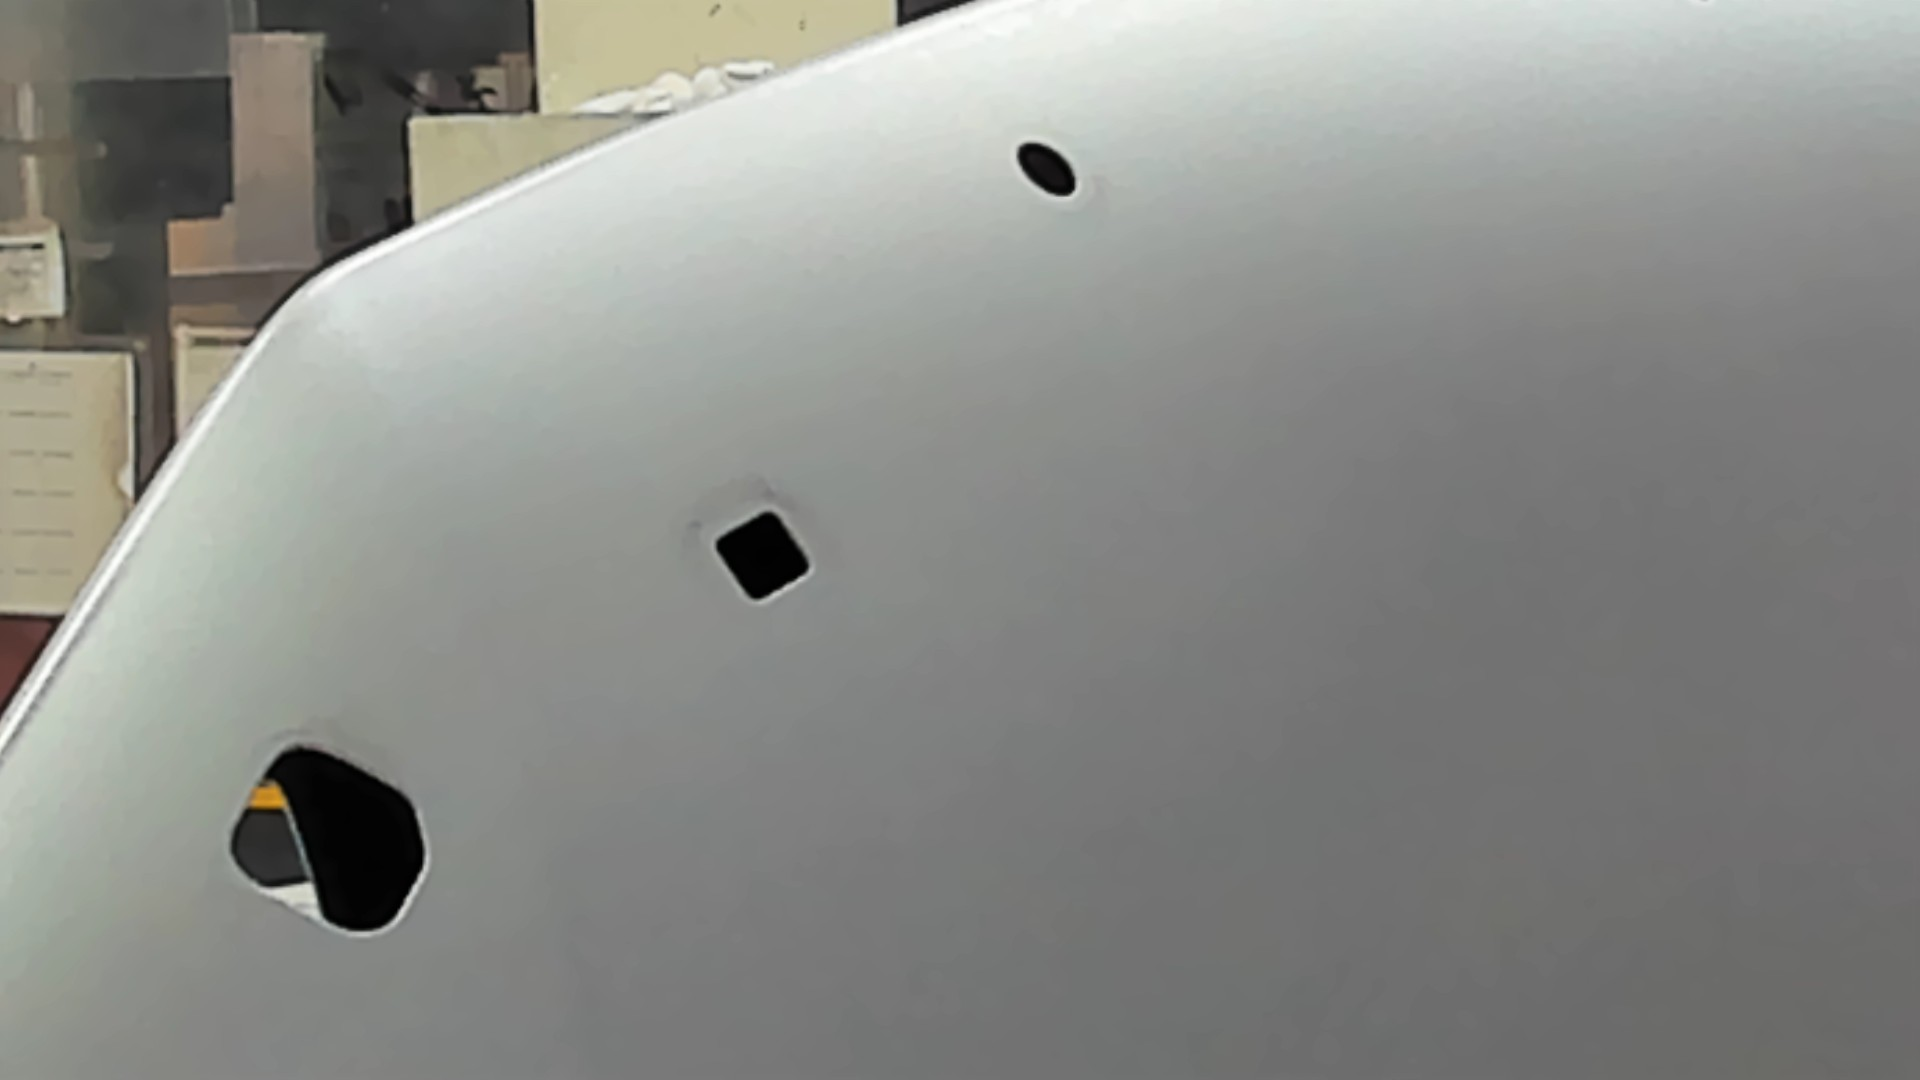capo: (818, 206, 1920, 1080)
chico: (1011, 137, 1083, 200)
grande: (222, 736, 436, 947)
mediano: (709, 502, 818, 615)
